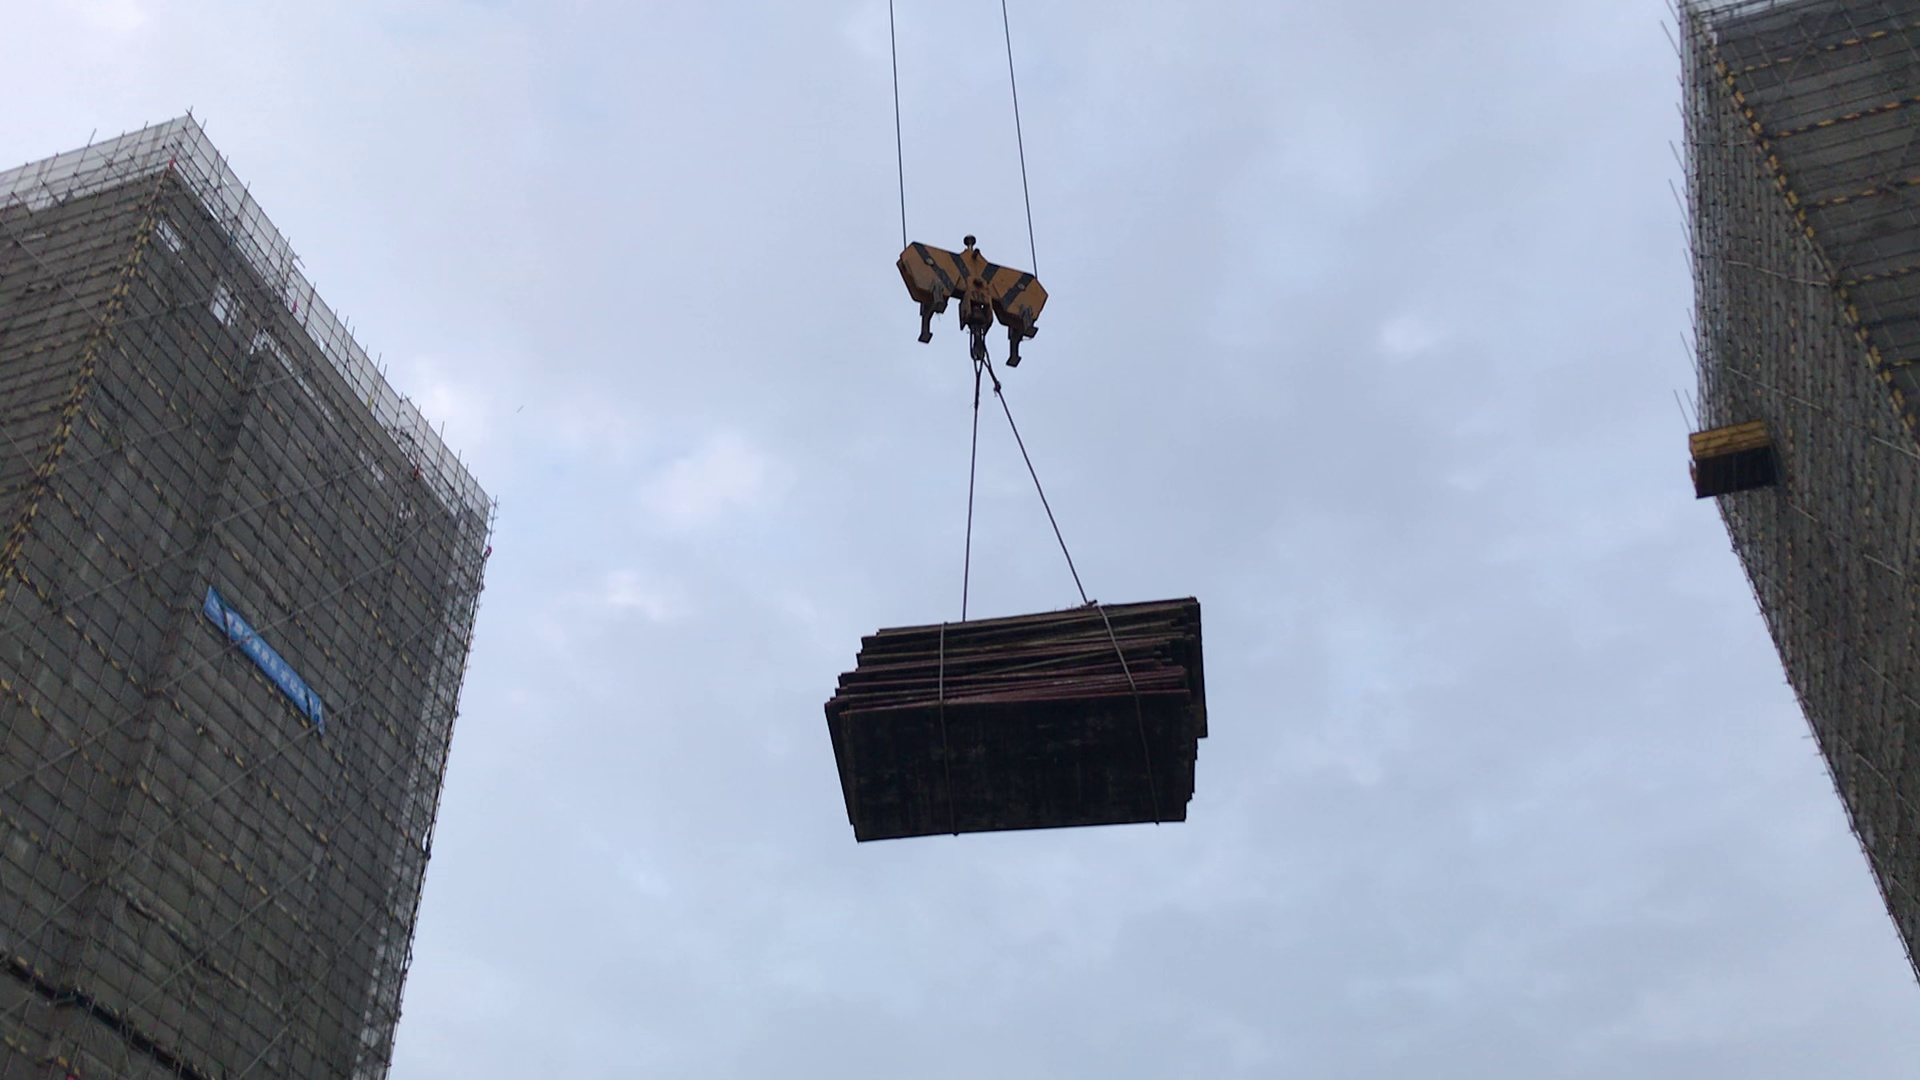board: (828, 597, 1207, 840)
hook: (887, 233, 1047, 371)
slogan: (203, 579, 328, 736)
